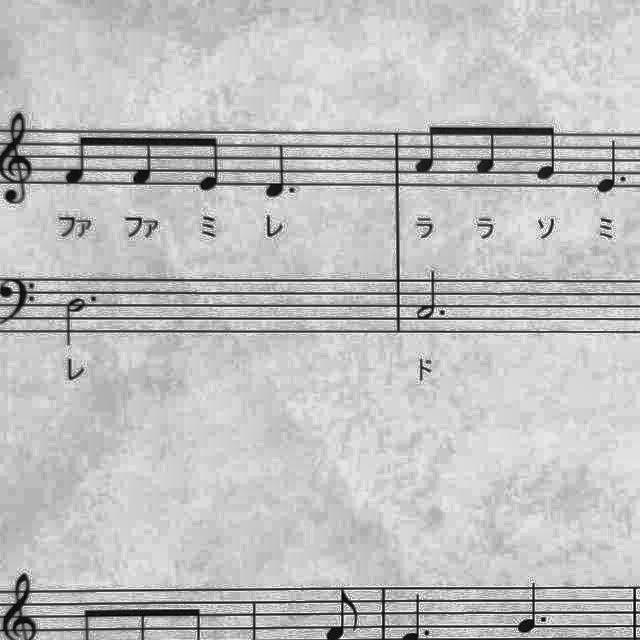Bass-clef: (0, 268, 42, 328)
Eighth-note: (192, 130, 232, 198), (530, 119, 568, 187), (60, 126, 98, 192), (409, 114, 446, 180), (470, 116, 506, 180), (126, 128, 162, 190)
Half-dot: (60, 290, 100, 352), (412, 265, 452, 323)
Quarter-dot: (590, 128, 630, 200), (262, 138, 302, 206), (514, 574, 552, 640)
Treble-clef: (0, 102, 40, 210)
